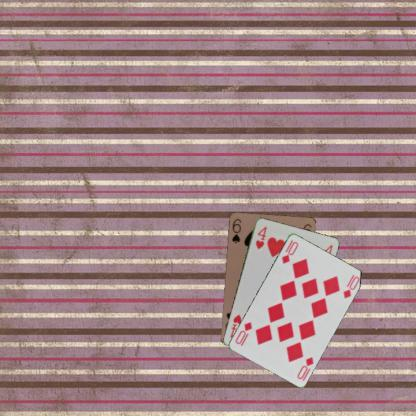10d: (279, 237, 299, 265), (294, 354, 315, 380)
4h: (253, 224, 268, 250)
6s: (229, 216, 242, 244)
